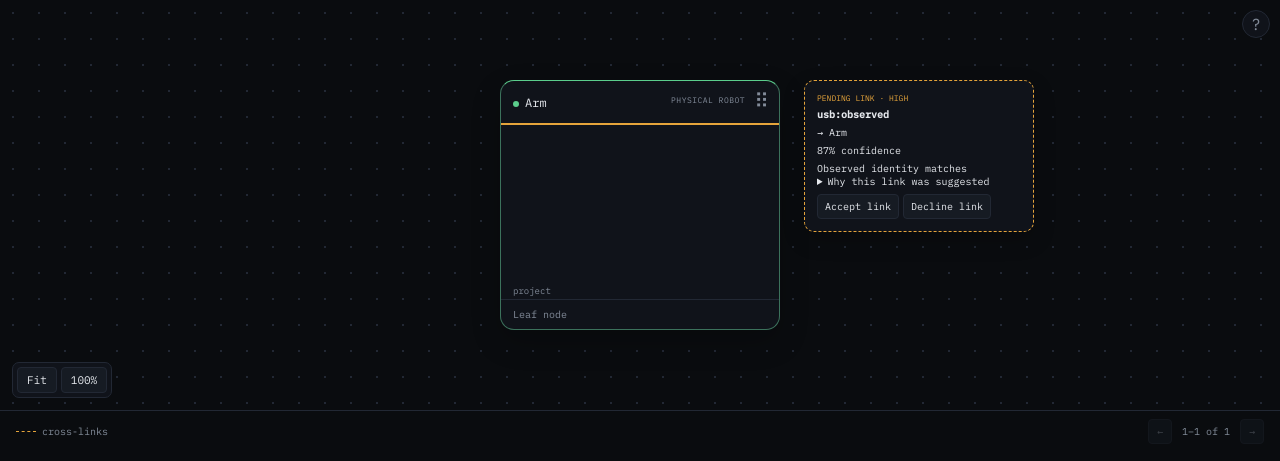
Test case: retains failed proposals and uses the existing decline endpoint
Click the button "Decline link". click: (947, 206)
box: left=903, top=194, right=991, bottom=219
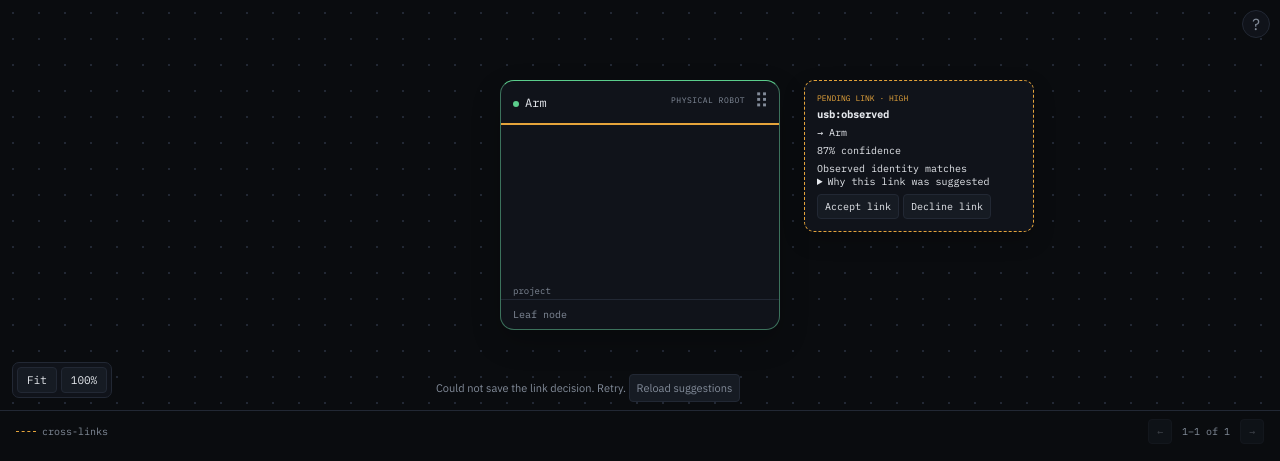
Check: the message shows "Could not save", box left=436, top=380, right=626, bottom=394
Click the button "Decline link". click: (947, 206)
box: left=903, top=194, right=991, bottom=219
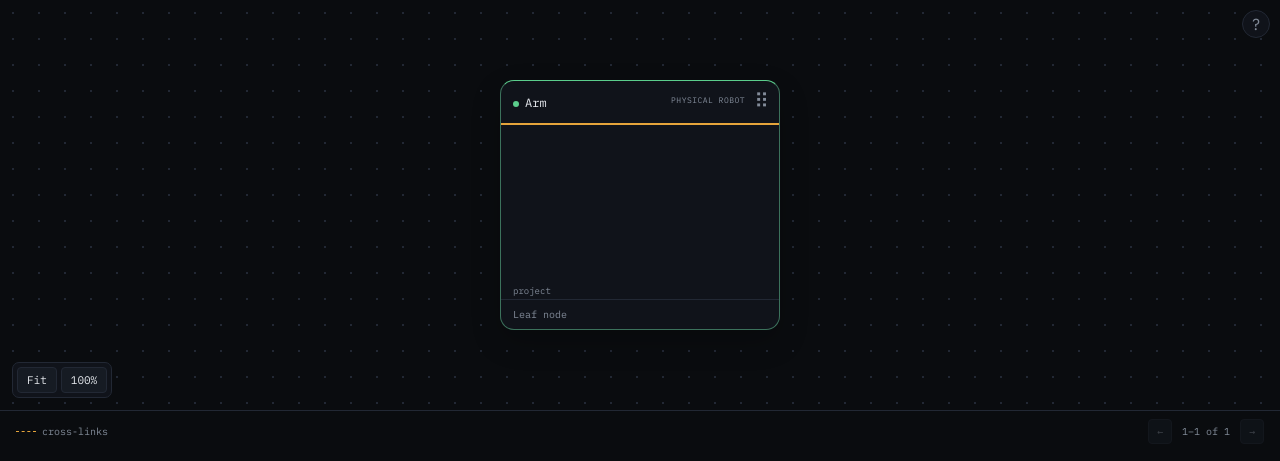
Check: the text "87% confidence" is gone
